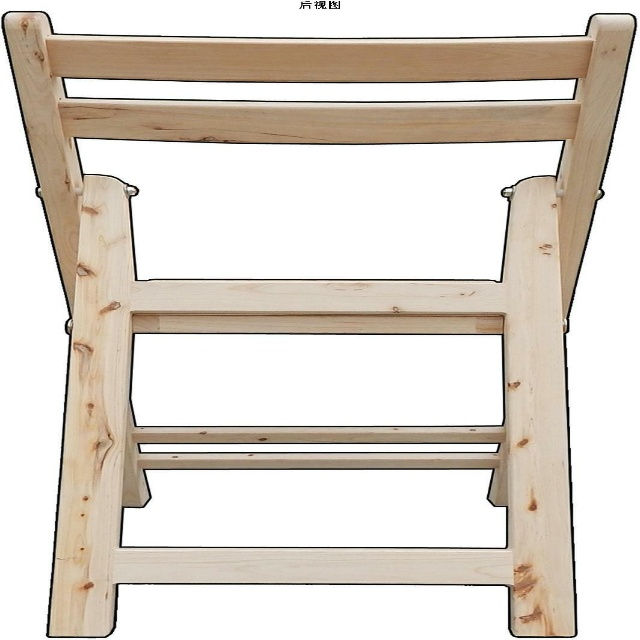obstacle: (567, 46, 638, 640), (2, 54, 67, 640), (2, 0, 638, 37), (108, 585, 513, 640)
